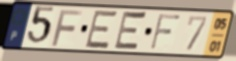5: (25, 6, 57, 49)
7: (186, 14, 209, 53)
E: (112, 9, 149, 53), (83, 9, 120, 50)
F: (50, 8, 85, 48), (148, 13, 183, 52)
